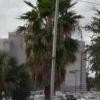Palm tree: (21, 7, 86, 92)
